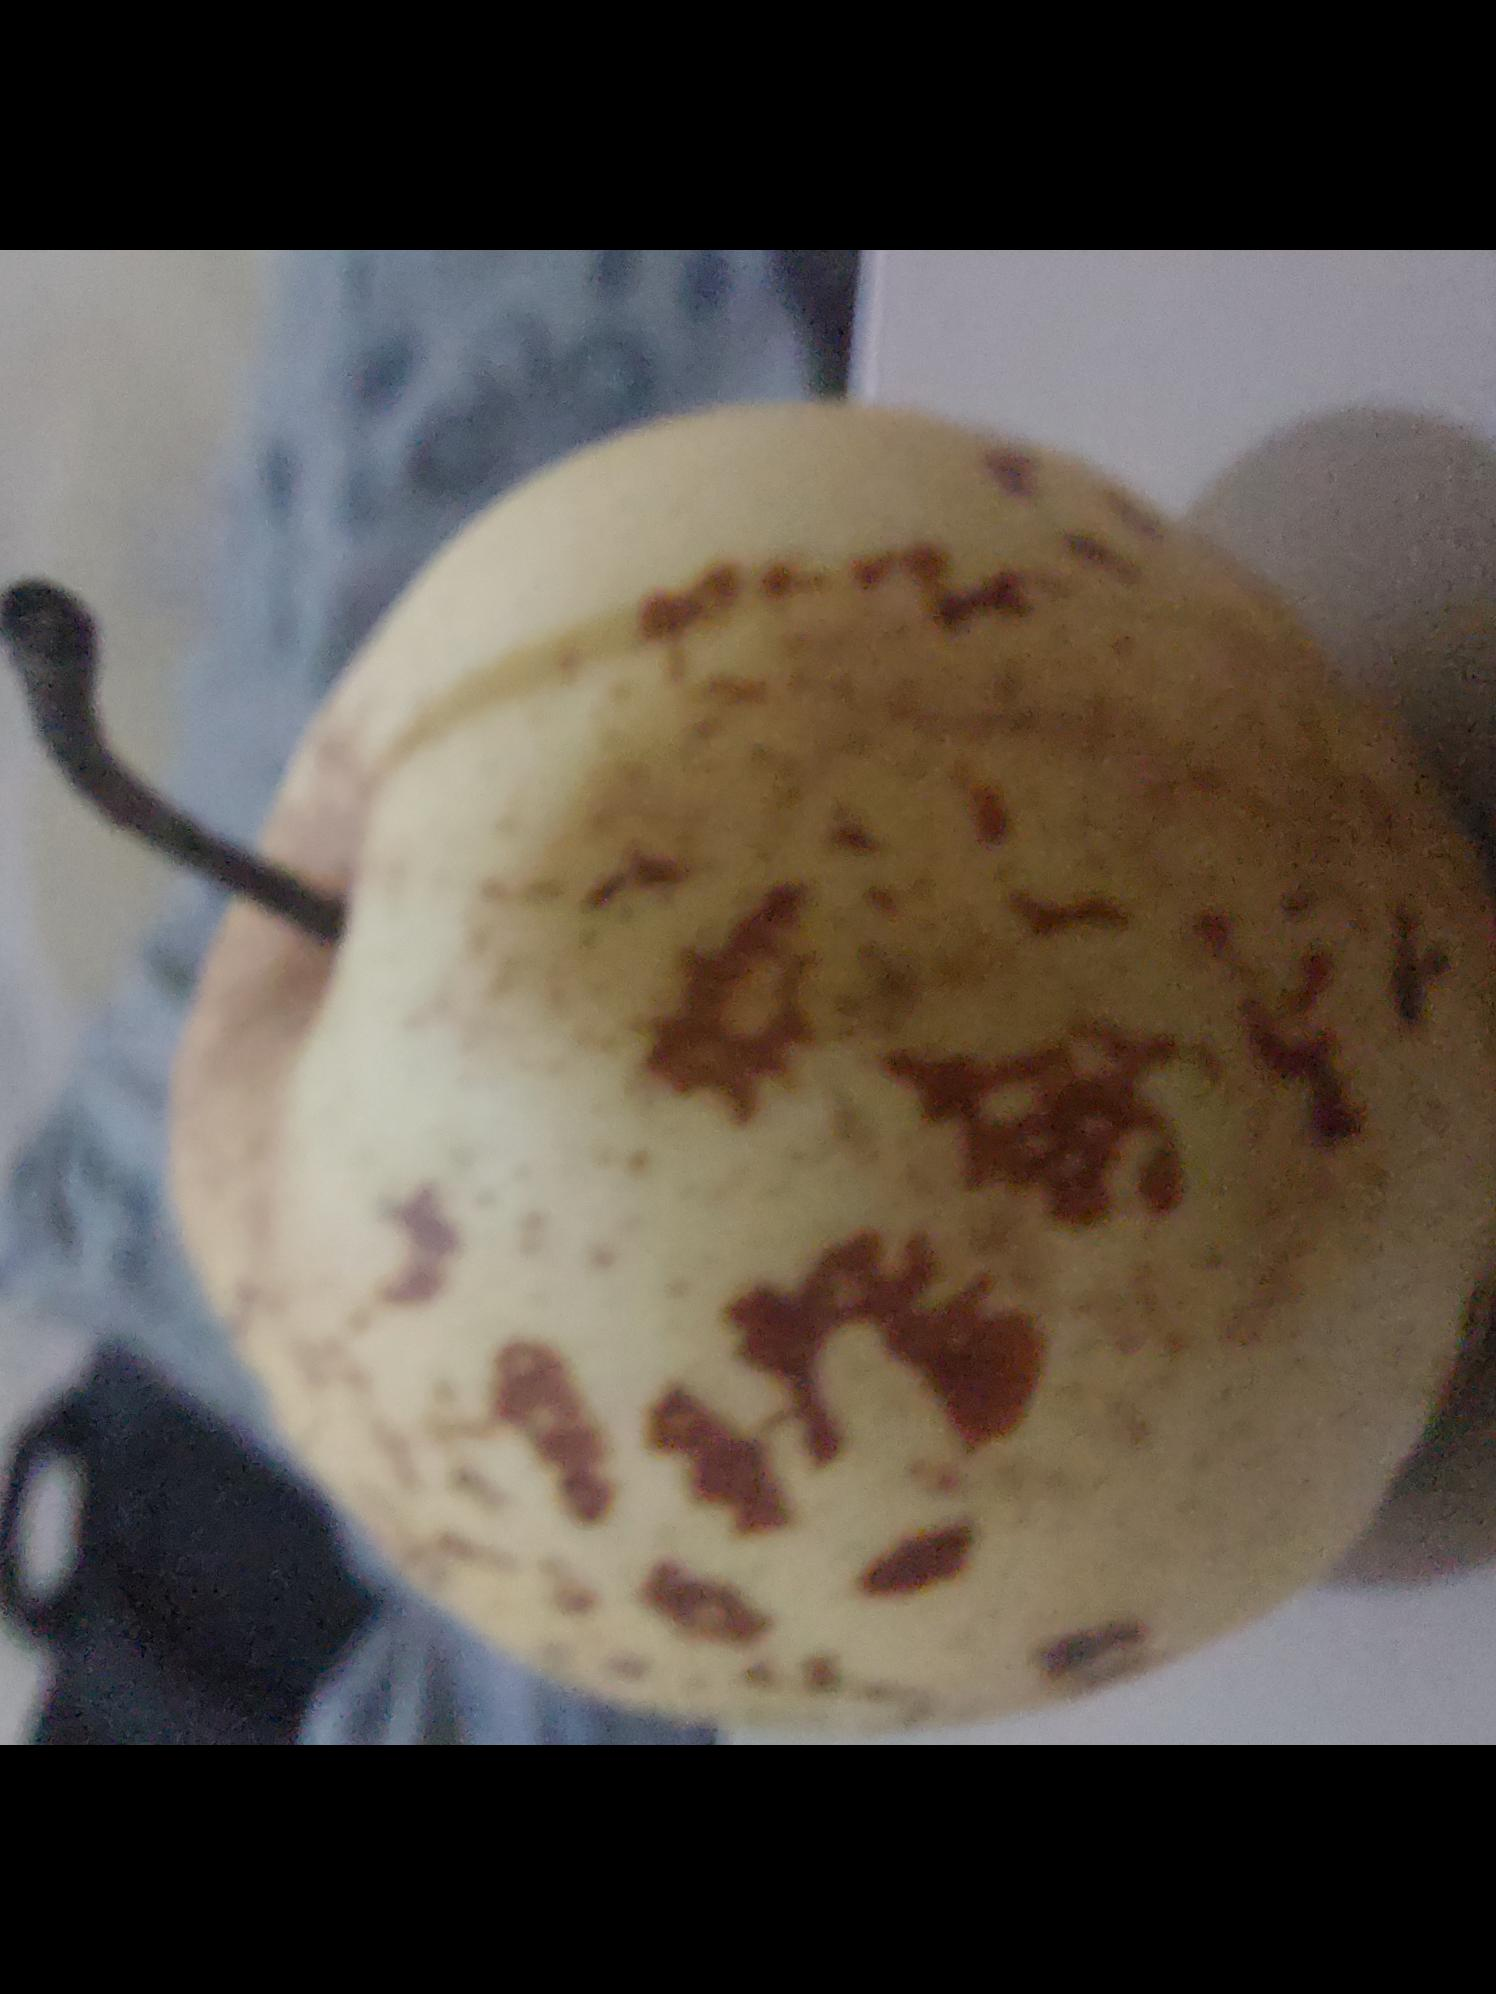Bad Pear: (167, 382, 1496, 1743)
